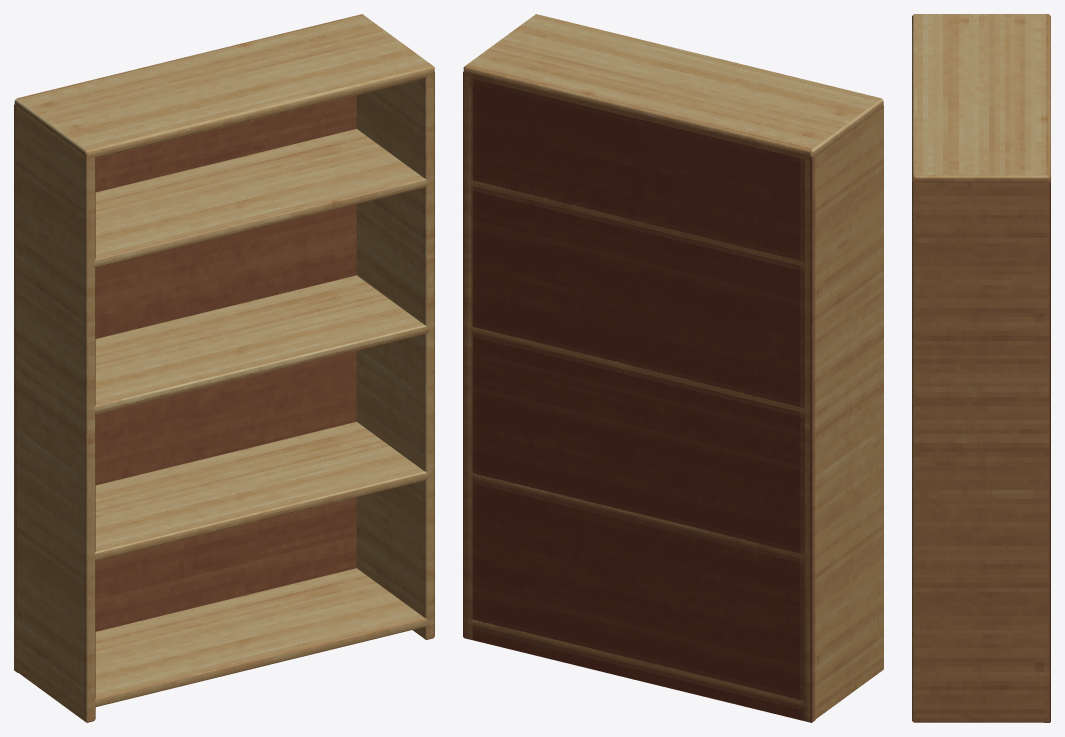
File: shelf_open.glb
The picture shows the model from 3 angles, left to right: view 1: azimuth 30°, elevation 25°; view 2: azimuth 150°, elevation 25°; view 3: azimuth 270°, elevation 25°; orthographic projection. The views are drawn at different scales.
Visible parts, largest first — view 1: mesh; view 2: mesh; view 3: mesh.
Boxes of the visible parts, x1,y1,x2,y2 form: mesh: [14, 14, 434, 722]; mesh: [463, 14, 883, 722]; mesh: [912, 14, 1050, 722].
Bounding box in the file's own units: 1 × 1.57 × 0.3599.
1 material, 1 textured.
